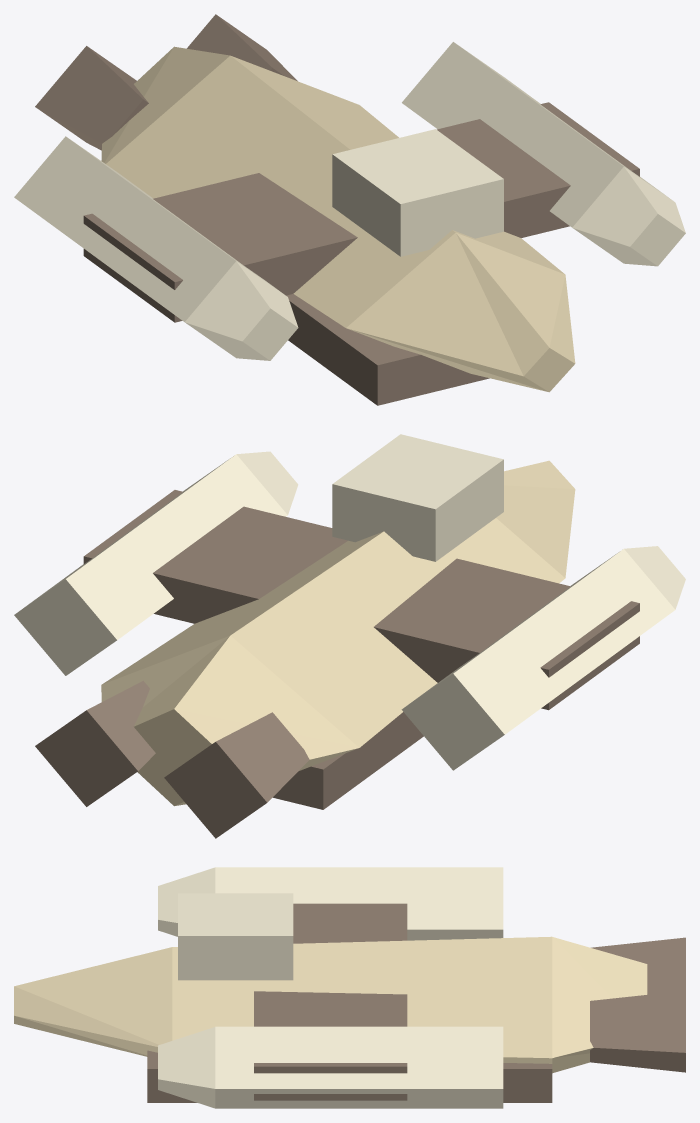
3 renders of one model, top to bottom at view 1: azimuth 30°, elevation 25°; view 2: azimuth 150°, elevation 25°; view 3: azimuth 270°, elevation 25°, orthographic. The views are drawn at different scales.
Bounding box in the file's own units: 5.38 × 1.97 × 7.56.
